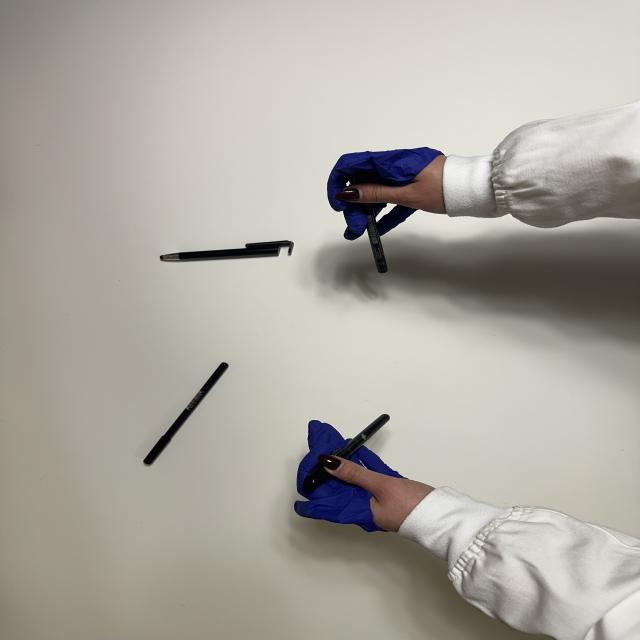glove_partial: (291, 417, 437, 536), (324, 146, 454, 236)
